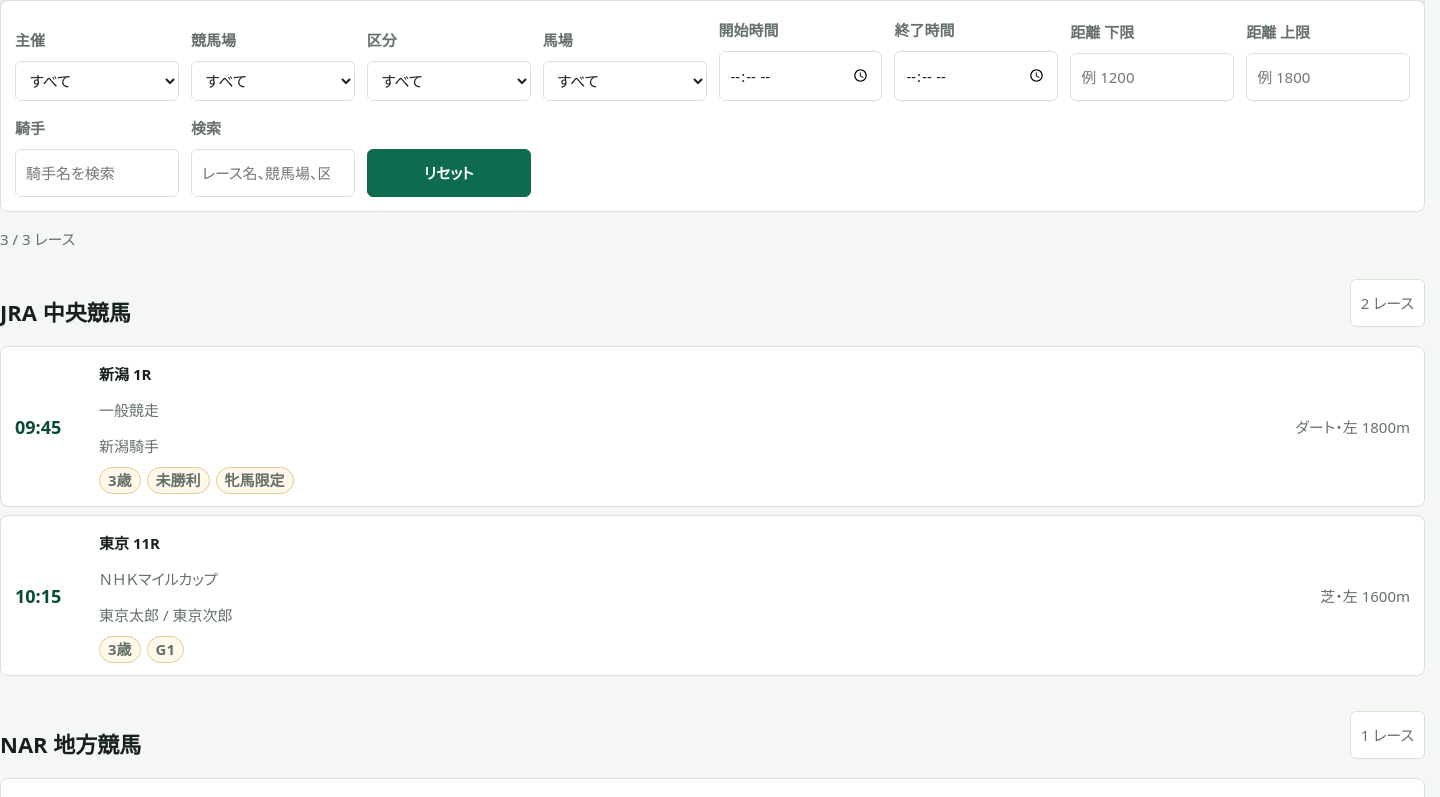
race date filter › shows an empty state when no race matches
This screenshot has width=1440, height=797.
In the search field: (273, 173) [191, 149, 355, 197], type "存在しない"
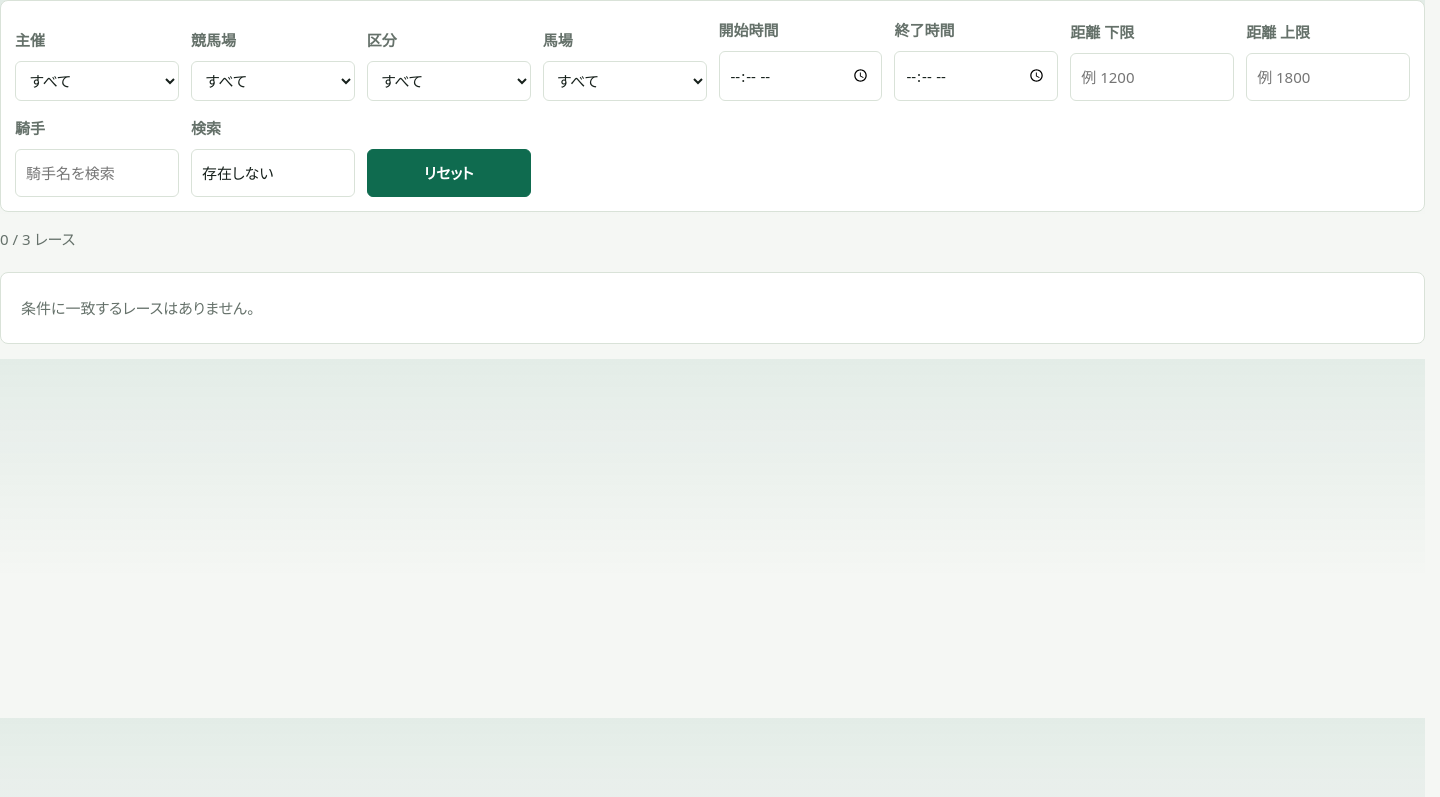
Result: the text "0 / 3 レース" is shown at [0, 229, 75, 249]
Result: the text "条件に一致するレースはありません。" is shown at [0, 272, 1425, 344]
